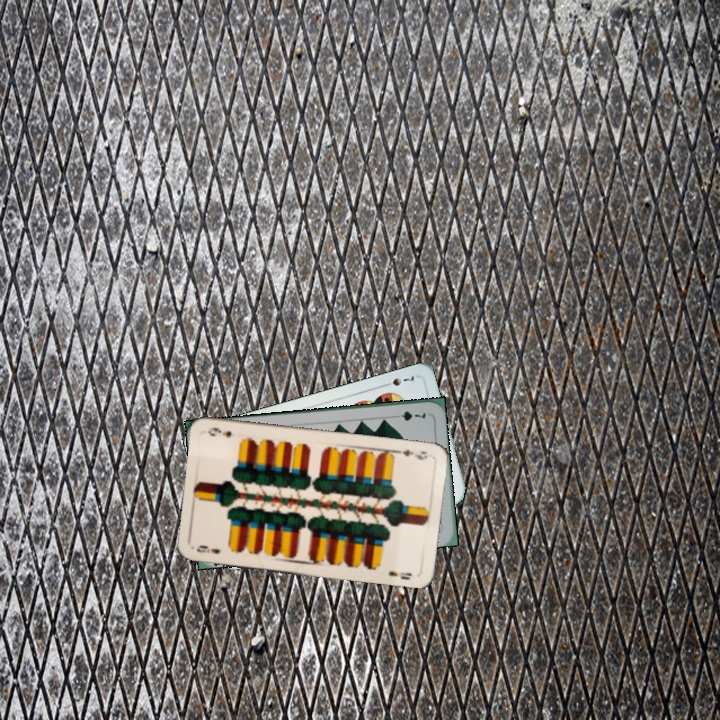E9: (392, 446, 430, 463), (193, 541, 223, 556)
G7: (389, 407, 428, 423)
S7: (379, 371, 417, 389)
